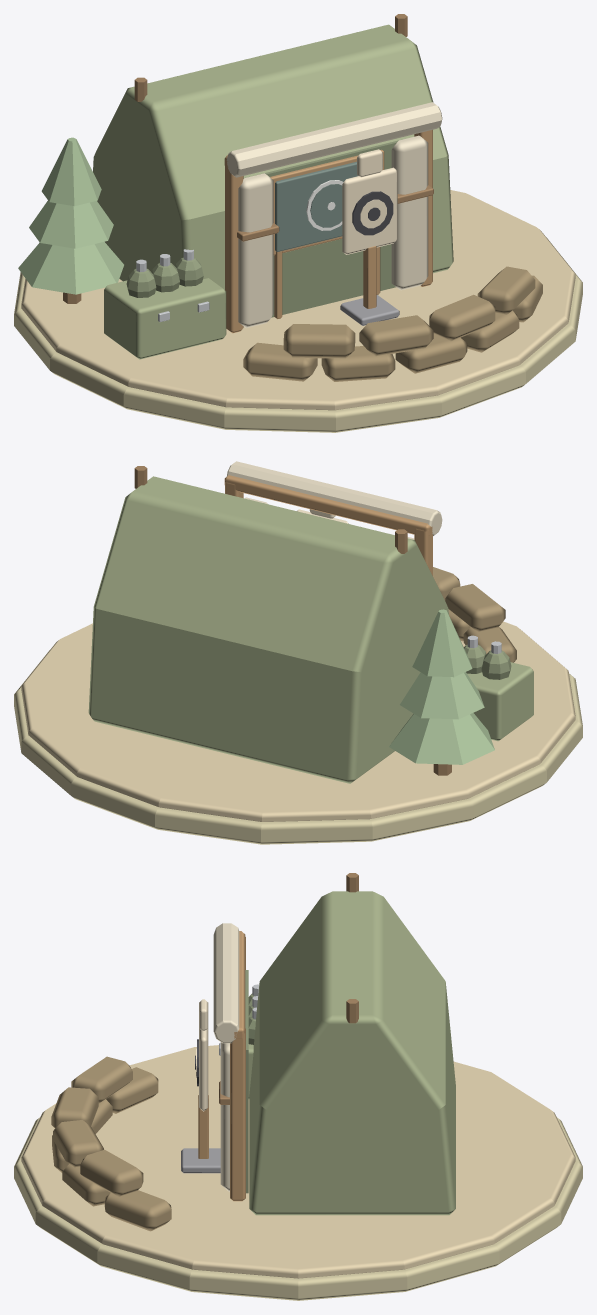
Rendered from training_point.glb.
The picture shows the model from 3 angles, top to bottom: view 1: azimuth 30°, elevation 25°; view 2: azimuth 150°, elevation 25°; view 3: azimuth 270°, elevation 25°; orthographic projection.
Parts seen in each view (by area): view 1: MerchantShop; view 2: MerchantShop; view 3: MerchantShop.
Part boxes in pixels (bbox=[...]): MerchantShop: bbox=[14, 14, 582, 432]; MerchantShop: bbox=[14, 461, 582, 844]; MerchantShop: bbox=[14, 873, 582, 1300].
Size of the model in its own units: 6.3 by 2.99 by 6.3.
